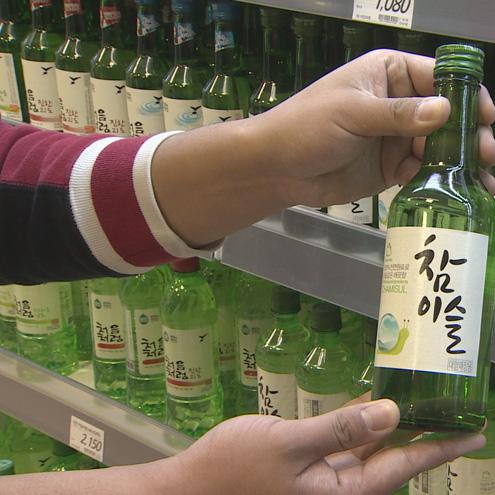soju: (12, 223, 371, 454), (5, 5, 382, 223), (370, 40, 494, 445)
